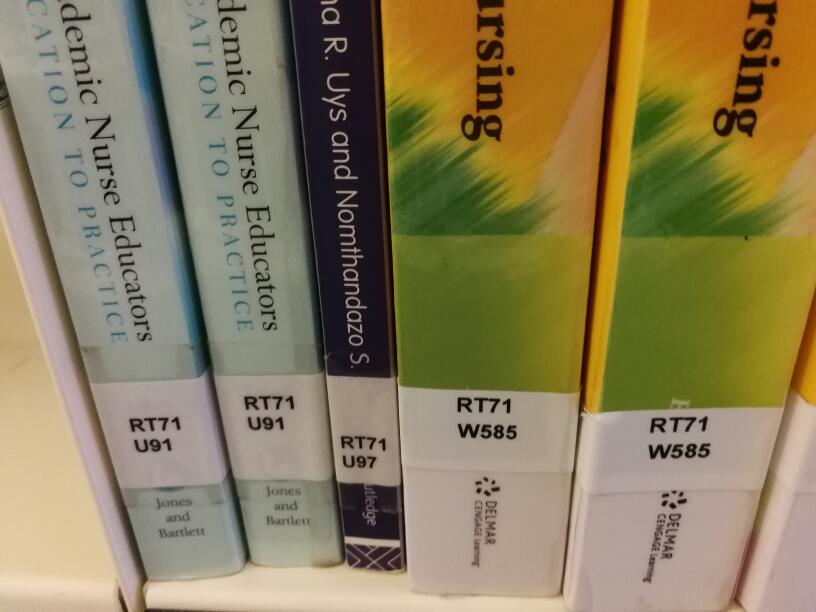booklabel: (643, 413, 713, 463), (454, 393, 519, 443), (126, 414, 184, 455), (238, 394, 297, 433), (337, 432, 389, 471)
